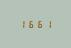one: (18, 20, 25, 28), (42, 20, 49, 28)
six: (26, 20, 33, 28), (34, 20, 41, 28)
